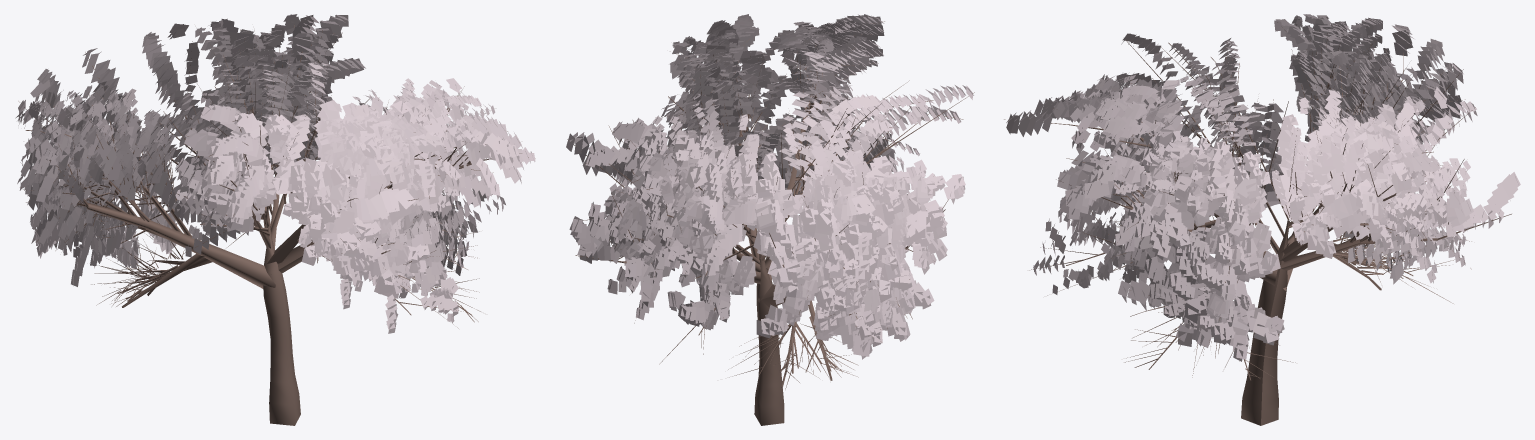
File: sakura-natural-rounded.glb
3 renders of one model, left to right at view 1: azimuth 30°, elevation 25°; view 2: azimuth 150°, elevation 25°; view 3: azimuth 270°, elevation 25°, orthographic. The views are drawn at different scales.
Bounding box in the file's own units: 11.36 × 9.2 × 12.73.
